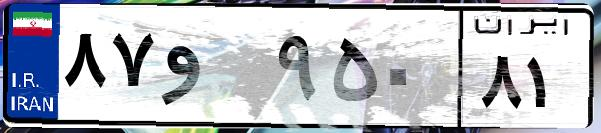0: (385, 28, 445, 110)
1: (525, 38, 570, 115)
5: (330, 28, 385, 110)
7: (110, 28, 158, 98)
8: (57, 26, 110, 100), (475, 38, 525, 113)
9: (270, 28, 330, 110)
و: (158, 20, 270, 120)
